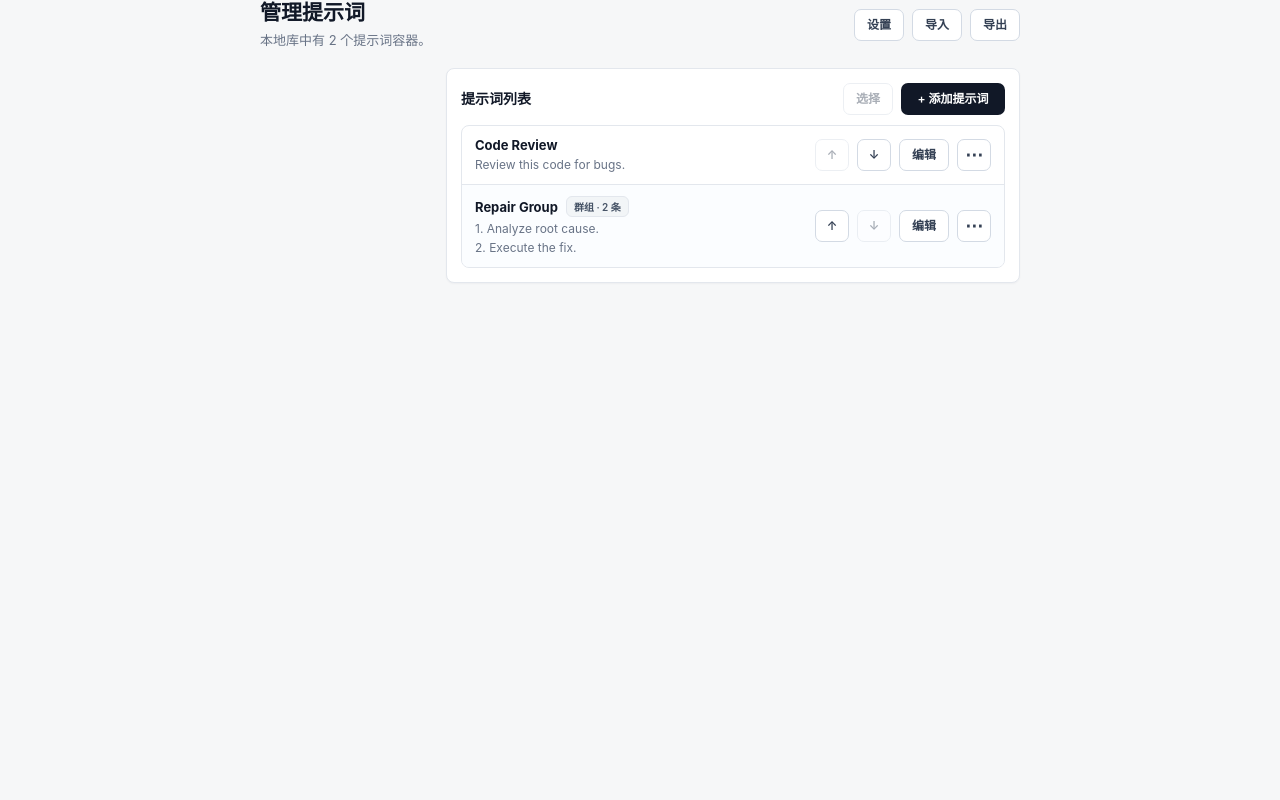
Test: prompt manager › keeps the split dialog open and reports persistence failures
This screenshot has width=1280, height=800.
Click the button named "Repair Group 的更多操作".
click(974, 226)  # box [957, 210, 991, 242]
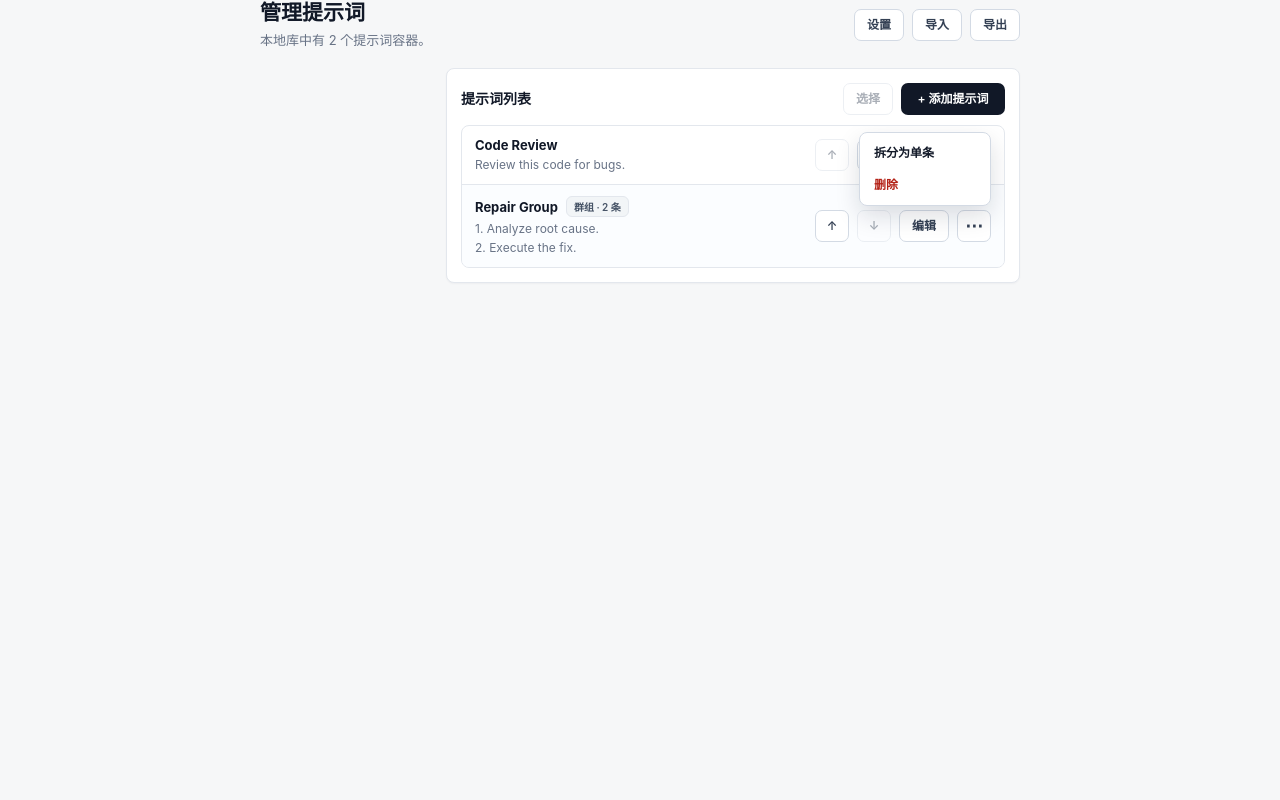
Click the menu item "拆分为单条".
click(925, 153)  # box [864, 137, 986, 169]
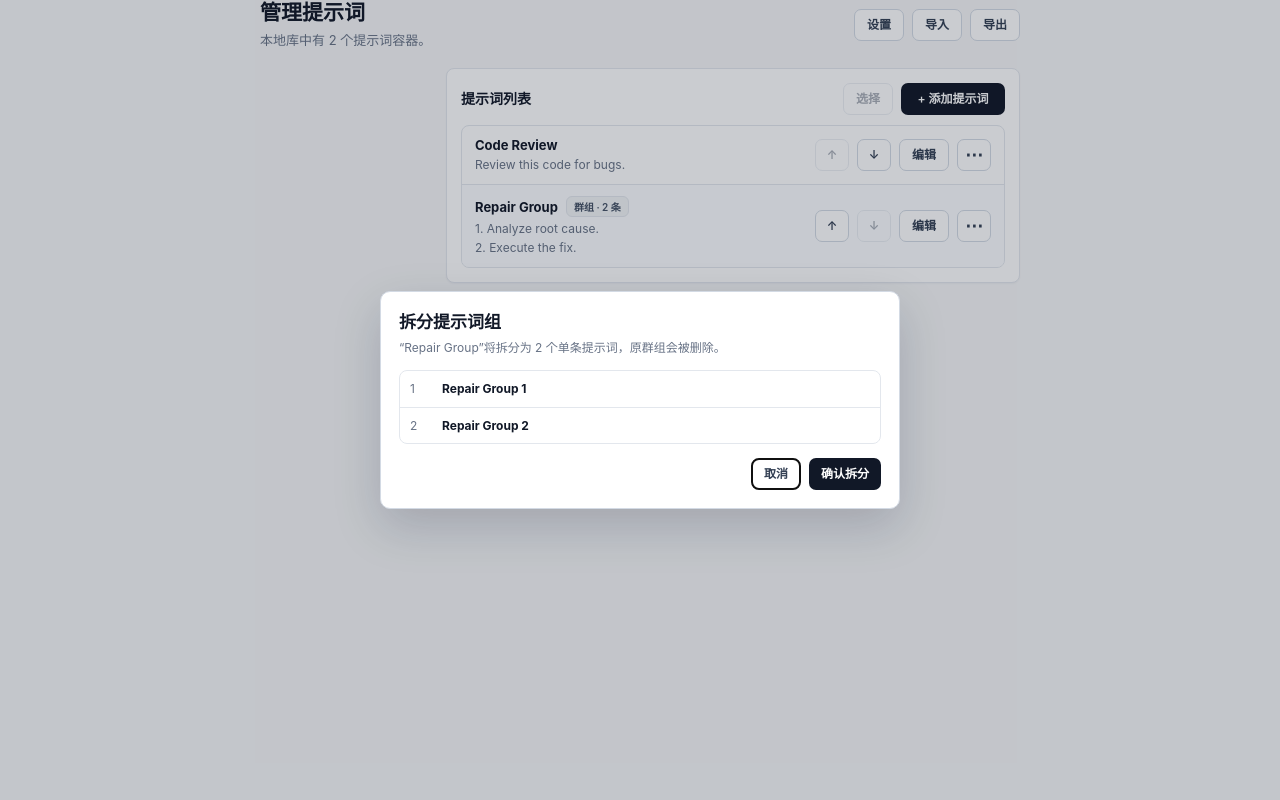
Click the button "确认拆分".
click(845, 474)  # box [809, 458, 881, 490]
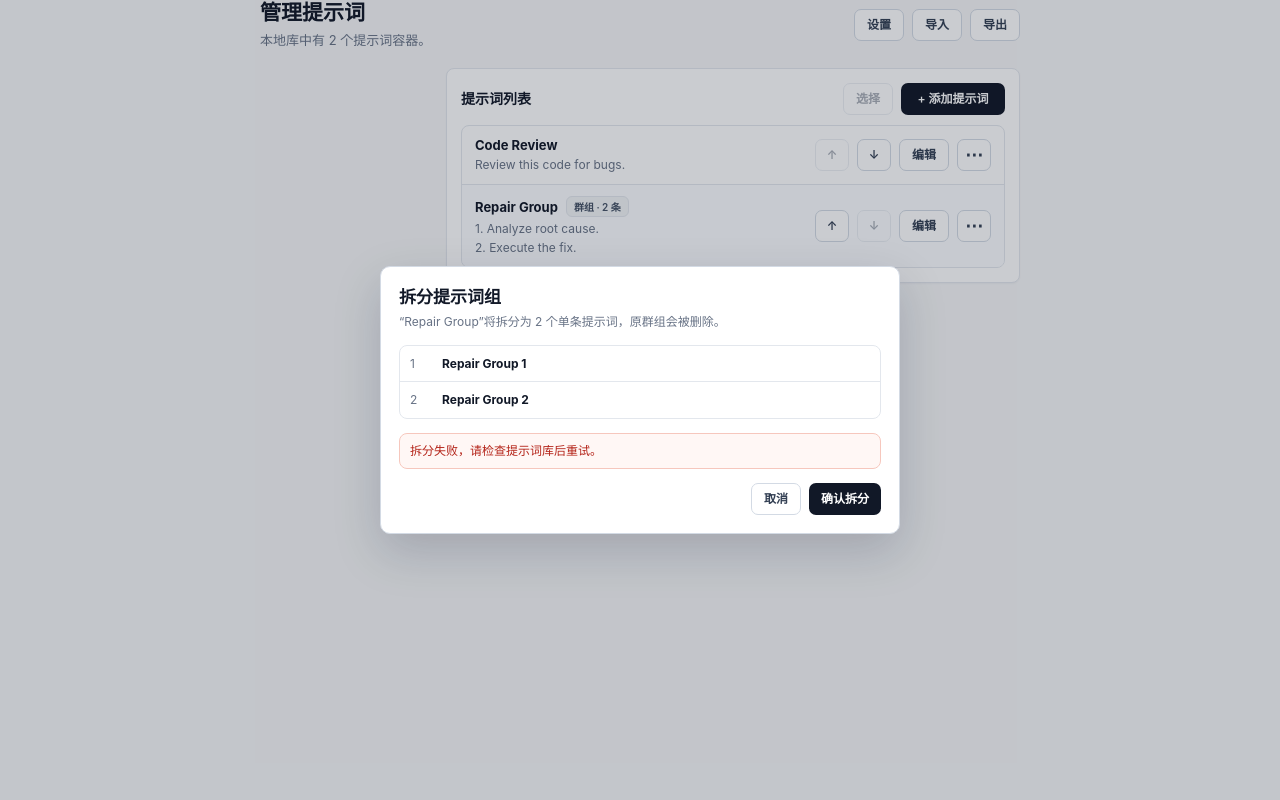
Expected: the dialog "拆分提示词组" is shown, [380, 266, 900, 534]
Expected: the message shows "拆分失败", [410, 442, 602, 458]
